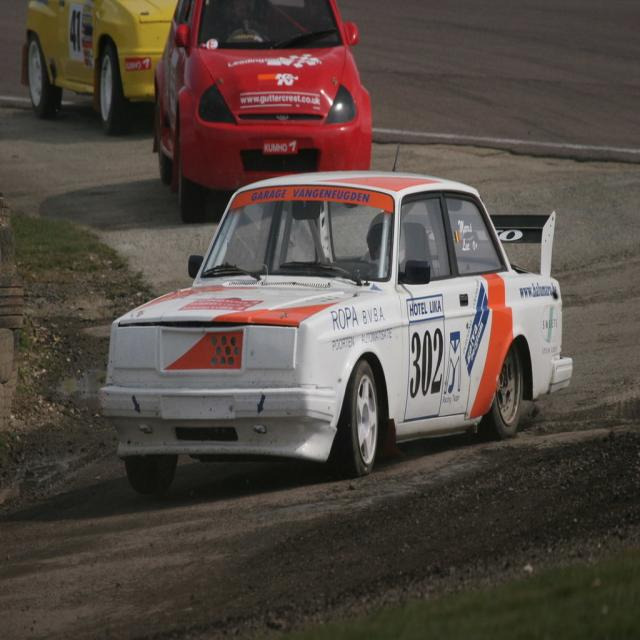car: (96, 102, 572, 494)
